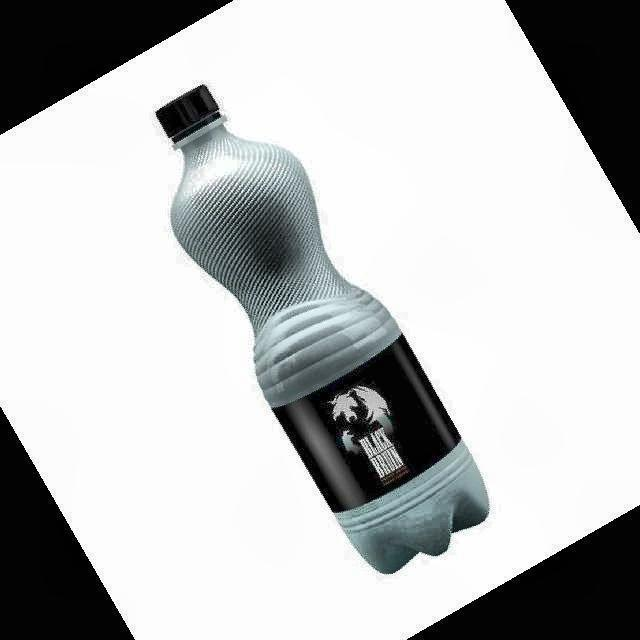plastic: (158, 88, 489, 573)
